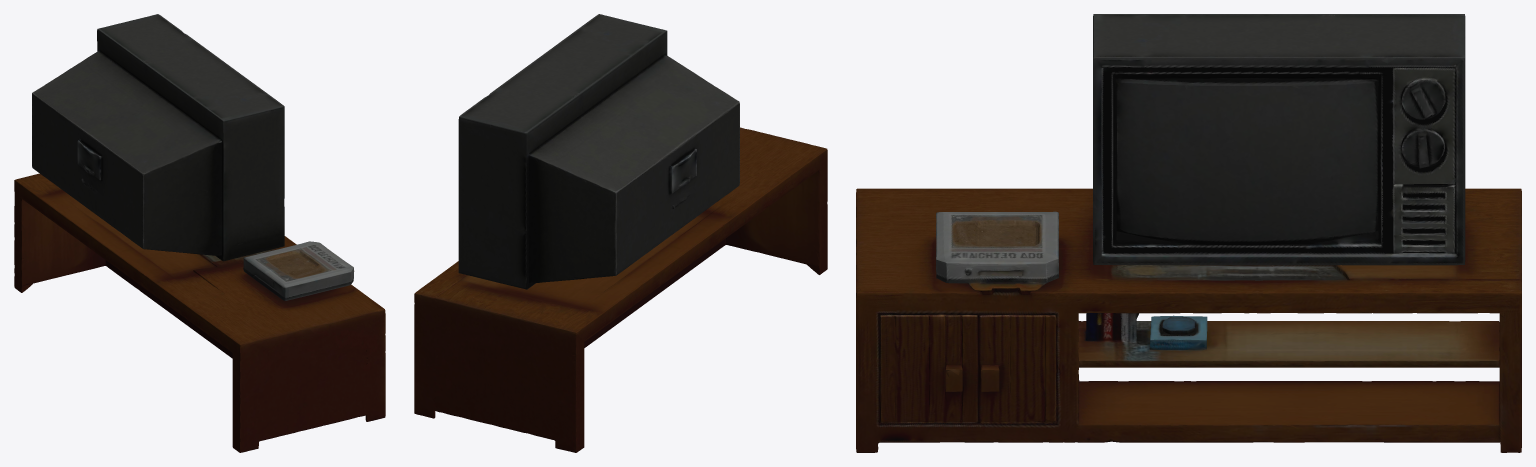
Rendered from retro+tv+on+stand+3d+model.glb.
The picture shows the model from 3 angles, left to right: view 1: azimuth 30°, elevation 25°; view 2: azimuth 150°, elevation 25°; view 3: azimuth 270°, elevation 25°; orthographic projection. The views are drawn at different scales.
Parts seen in each view (by area): view 1: tripo_node_bd05a284-cfb0-415a-b410-2393200b8da3; view 2: tripo_node_bd05a284-cfb0-415a-b410-2393200b8da3; view 3: tripo_node_bd05a284-cfb0-415a-b410-2393200b8da3.
Part boxes in pixels (<box>): tripo_node_bd05a284-cfb0-415a-b410-2393200b8da3: <box>14,14,385,452</box>; tripo_node_bd05a284-cfb0-415a-b410-2393200b8da3: <box>414,14,827,452</box>; tripo_node_bd05a284-cfb0-415a-b410-2393200b8da3: <box>856,14,1521,452</box>.
Size of the model in its own units: 0.4305 by 0.6304 by 1.
Materials: 1 (1 with a texture image).
